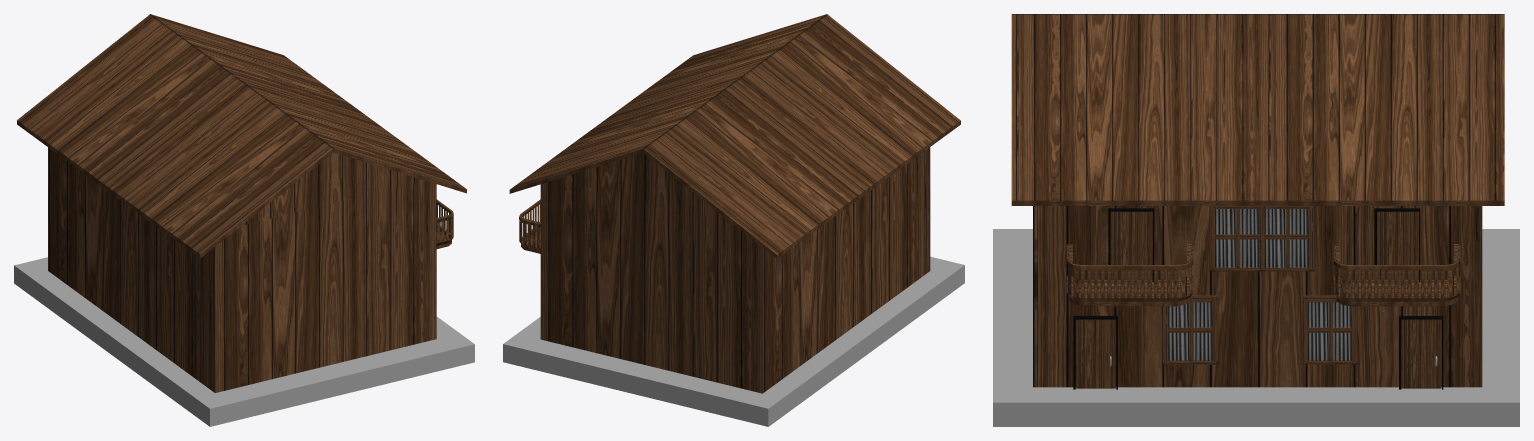
Rendered from Casa4.fbx.
3 renders of one model, left to right at view 1: azimuth 30°, elevation 25°; view 2: azimuth 150°, elevation 25°; view 3: azimuth 270°, elevation 25°, orthographic. The views are drawn at different scales.
Parts seen in each view (by area): view 1: pCube70, pCube67, base; view 2: pCube70, pCube67, base, pCube65; view 3: pCube67, pCube70, base, pPlane1 (×4), pCube65 (×2), Puerta1 (×2), Puerta2 (×2), marco_Puerta1 (×2), marco_Puerta2.
Boxes of the visible parts, <box> form: pCube70: <box>48,147,436,392</box>; pCube67: <box>17,14,466,258</box>; base: <box>14,257,474,426</box>; pCube70: <box>540,147,930,393</box>; pCube67: <box>509,14,960,258</box>; base: <box>503,256,964,426</box>; pCube65: <box>519,199,540,253</box>; pCube67: <box>1011,14,1504,205</box>; pCube70: <box>1033,206,1482,387</box>; base: <box>993,229,1519,426</box>; pPlane1 (×4): <box>1168,209,1351,360</box>; pCube65 (×2): <box>1066,244,1460,306</box>; Puerta1 (×2): <box>1076,319,1441,388</box>; Puerta2 (×2): <box>1111,211,1418,279</box>; marco_Puerta1 (×2): <box>1073,316,1443,389</box>; marco_Puerta2: <box>1108,208,1154,281</box>.
Size of the model in its own units: 48.41 by 40.18 by 59.03.
Materials: 5 (3 with a texture image).
